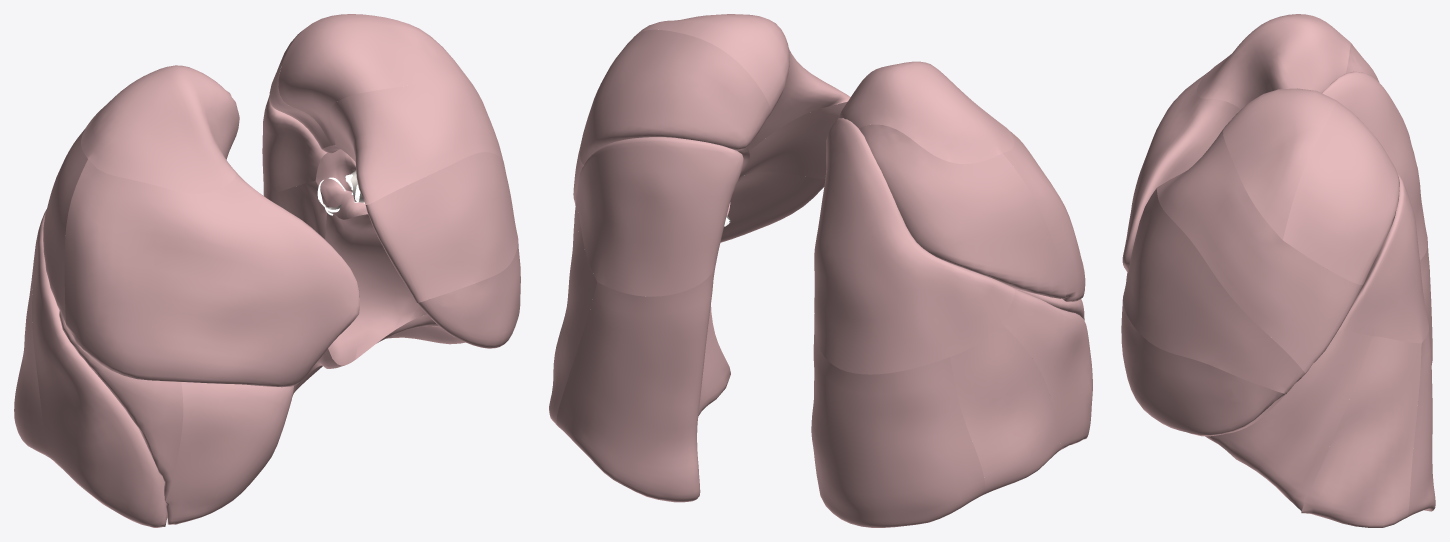
The model's file is 3DPX-021008.glb.
The picture shows the model from 3 angles, left to right: view 1: azimuth 30°, elevation 25°; view 2: azimuth 150°, elevation 25°; view 3: azimuth 270°, elevation 25°; orthographic projection. The views are drawn at different scales.
Parts seen in each view (by area): view 1: VH_F_right_anterior_bronchopulmonary_segm, VH_F_right_anterior_basal_bronchopulmonary_segment, VH_F_lingula_superior_bronchopulmonary_segment, VH_F_right_apical_bronchopulmonary_segment, VH_F_left_anterior_bronchopulmonary_segment, VH_F_left_apical_bronchopulmonary_segment, VH_F_right_medial_bronchopulmonary_segment, VH_F_left_medial_basal_bronchopulmonary_segment, VH_F_lingula_inferior_bronchopulmonary_segment, VH_F_right_lateral_bronchopulmonary_segmennt, VH_F_left_superior_bronchopulmonary_segment, VH_F_right_posterior_bronchopulmonary_segment (+6 smaller); view 2: VH_F_right_superior_bronchopulmonary_segment, VH_F_left_posterior_basal_bronchopulmonary_segment, VH_F_right_posterior_basal_bronchopulmonary_segment, VH_F_left_superior_bronchopulmonary_segment, VH_F_right_posterior_bronchopulmonary_segment, VH_F_left_posterior_bronchopulmonary_segment, VH_F_right_lateral_basal_bronchopulmonary_segment, VH_F_right_apical_bronchopulmonary_segment, VH_F_right_anterior_basal_bronchopulmonary_segment, VH_F_left_apical_bronchopulmonary_segment, VH_F_lingula_inferior_bronchopulmonary_segment, VH_F_lingula_superior_bronchopulmonary_segment (+3 smaller); view 3: VH_F_left_anterior_bronchopulmonary_segment, VH_F_lingula_superior_bronchopulmonary_segment, VH_F_left_lateral_basal_bronchopulmonary_segment, VH_F_left_posterior_bronchopulmonary_segment, VH_F_left_anterior_basal_bronchopulmonary_segment, VH_F_lingula_inferior_bronchopulmonary_segment, VH_F_left_apical_bronchopulmonary_segment, VH_F_right_apical_bronchopulmonary_segment, VH_F_left_superior_bronchopulmonary_segment, VH_F_right_anterior_bronchopulmonary_segm, VH_F_right_superior_bronchopulmonary_segment, VH_F_left_posterior_basal_bronchopulmonary_segment (+2 smaller).
Boxes of the visible parts, x1,y1,x2,y2 form: VH_F_right_anterior_bronchopulmonary_segm: (64,159,359,387); VH_F_right_anterior_basal_bronchopulmonary_segment: (32,266,167,527); VH_F_lingula_superior_bronchopulmonary_segment: (365,152,518,302); VH_F_right_apical_bronchopulmonary_segment: (81,65,239,193); VH_F_left_anterior_bronchopulmonary_segment: (329,78,503,204); VH_F_left_apical_bronchopulmonary_segment: (278,14,471,145); VH_F_right_medial_bronchopulmonary_segment: (165,382,293,524); VH_F_left_medial_basal_bronchopulmonary_segment: (325,205,426,365); VH_F_lingula_inferior_bronchopulmonary_segment: (417,242,520,348); VH_F_right_lateral_bronchopulmonary_segmennt: (59,311,183,500); VH_F_left_superior_bronchopulmonary_segment: (262,95,327,197); VH_F_right_posterior_bronchopulmonary_segment: (43,128,87,325); VH_F_right_superior_bronchopulmonary_segment: (814,118,1014,374); VH_F_left_posterior_basal_bronchopulmonary_segment: (556,266,730,502); VH_F_right_posterior_basal_bronchopulmonary_segment: (811,329,985,527); VH_F_left_superior_bronchopulmonary_segment: (577,137,743,296); VH_F_right_posterior_bronchopulmonary_segment: (859,124,1065,298); VH_F_left_posterior_bronchopulmonary_segment: (580,29,770,164); VH_F_right_lateral_basal_bronchopulmonary_segment: (950,323,1060,494); VH_F_right_apical_bronchopulmonary_segment: (838,61,1014,163); VH_F_right_anterior_basal_bronchopulmonary_segment: (1001,288,1092,450); VH_F_left_apical_bronchopulmonary_segment: (636,14,789,114); VH_F_lingula_inferior_bronchopulmonary_segment: (720,172,825,242); VH_F_lingula_superior_bronchopulmonary_segment: (741,101,847,178); VH_F_left_anterior_bronchopulmonary_segment: (1156,129,1363,372); VH_F_lingula_superior_bronchopulmonary_segment: (1123,188,1305,393); VH_F_left_lateral_basal_bronchopulmonary_segment: (1301,336,1421,527); VH_F_left_posterior_bronchopulmonary_segment: (1283,101,1399,284); VH_F_left_anterior_basal_bronchopulmonary_segment: (1205,330,1372,512); VH_F_lingula_inferior_bronchopulmonary_segment: (1121,299,1285,436); VH_F_left_apical_bronchopulmonary_segment: (1223,88,1336,239); VH_F_right_apical_bronchopulmonary_segment: (1196,14,1350,109); VH_F_left_superior_bronchopulmonary_segment: (1337,174,1428,343); VH_F_right_anterior_bronchopulmonary_segm: (1122,72,1240,273); VH_F_right_superior_bronchopulmonary_segment: (1322,71,1427,259); VH_F_left_posterior_basal_bronchopulmonary_segment: (1407,328,1435,517).
Size of the model in its own units: 0.2511 by 0.223 by 0.1526.
